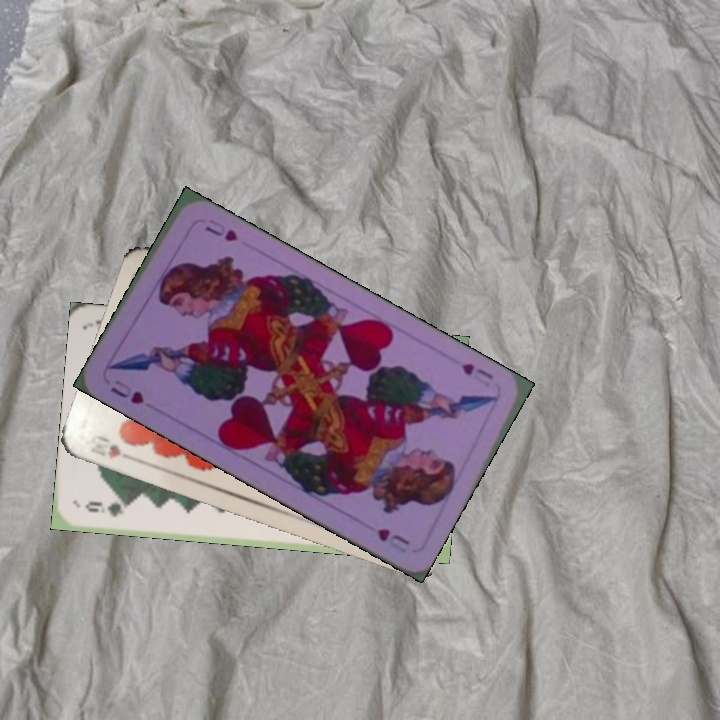G9: (81, 497, 133, 519)
H10: (82, 430, 139, 464)
HU: (106, 375, 147, 407), (456, 358, 496, 382)
